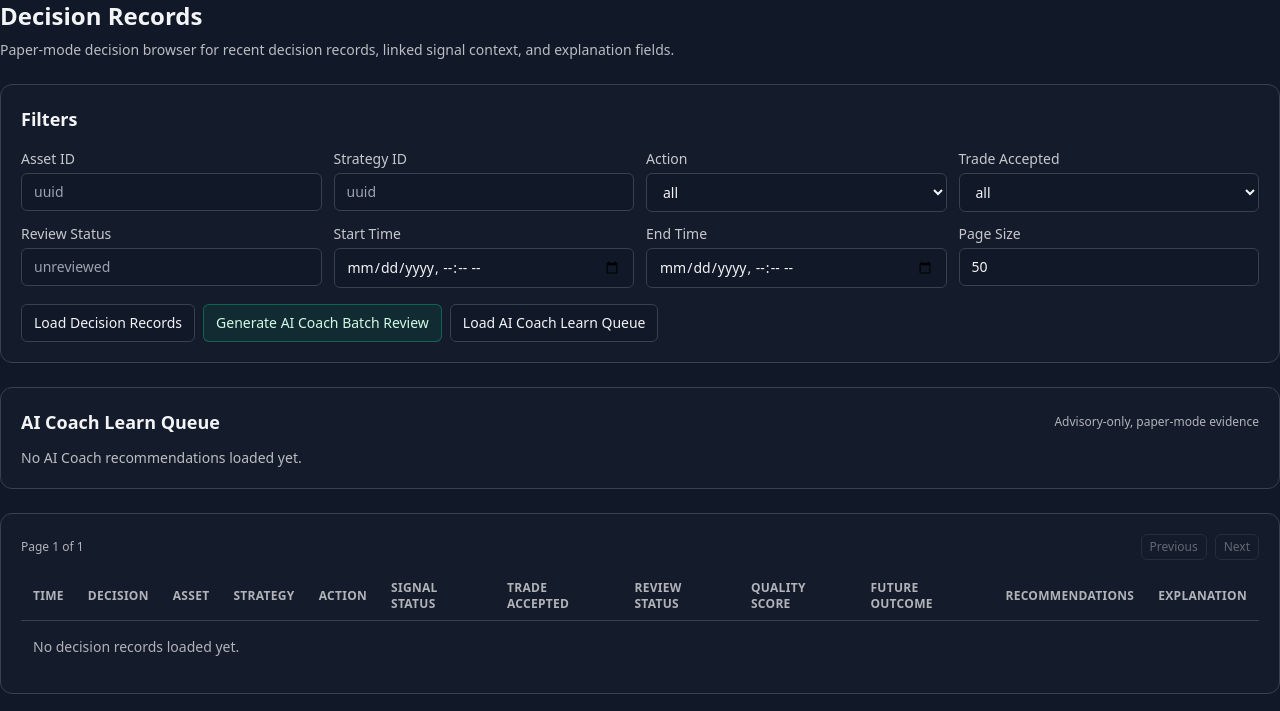
Test: DecisionRecordsPage › renders learn-layer enrichments from decision records endpoint
Click the button "Load Decision Records".
click(108, 323)  # box x1=21 y1=304 x2=195 y2=342
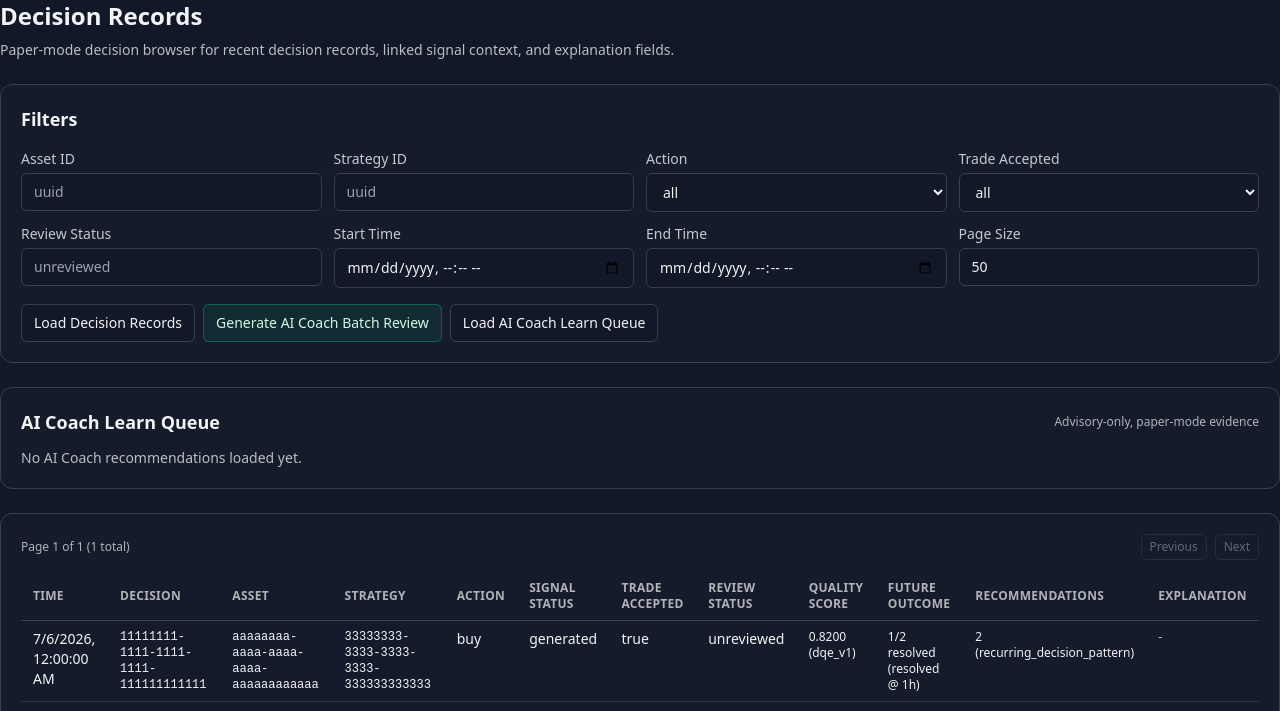
Expected: the text "0.8200 (dqe_v1)" is shown, x1=797 y1=620 x2=876 y2=702
Expected: the text "1/2 resolved (resolved @ 1h)" is shown, x1=876 y1=620 x2=963 y2=702
Expected: the text "2 (recurring_decision_pattern)" is shown, x1=963 y1=620 x2=1146 y2=702
Click the button "Load AI Coach Learn Queue".
click(554, 323)  # box x1=450 y1=304 x2=658 y2=342
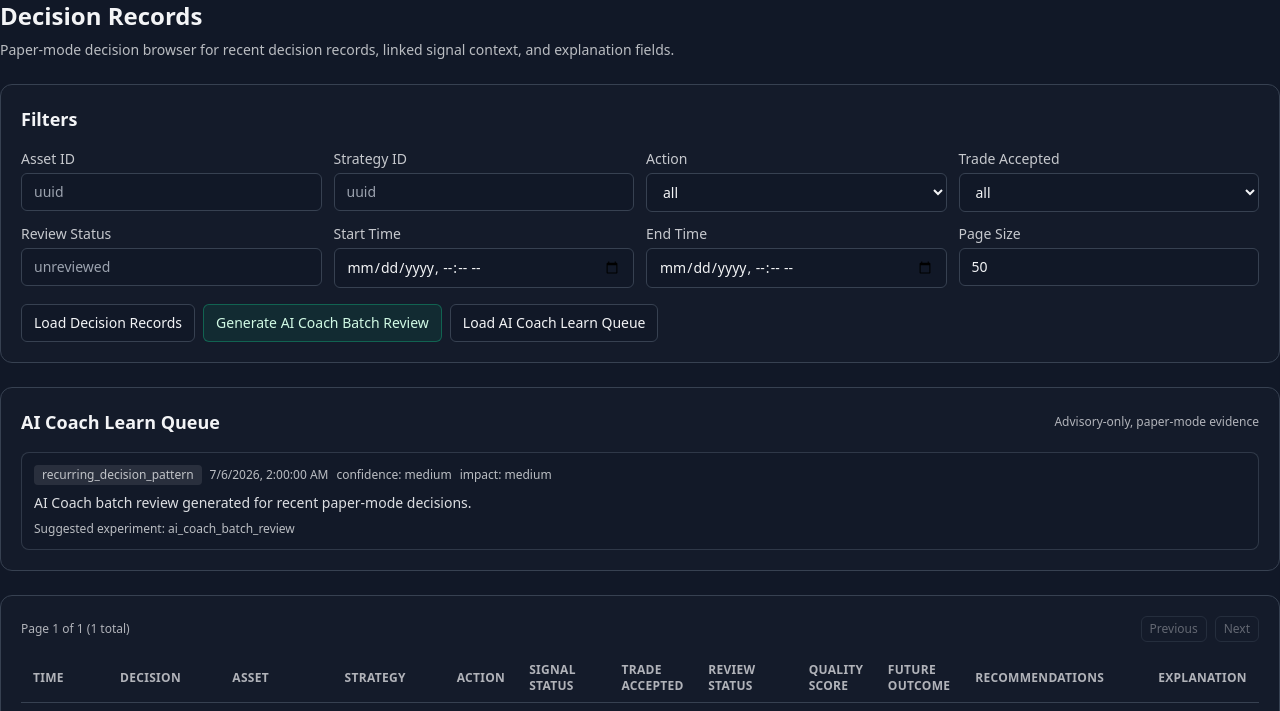
Expected: the text "AI Coach batch review generated for recent paper-mode decisions." is shown, x1=34 y1=493 x2=472 y2=512
Expected: the text "Suggested experiment: ai_coach_batch_review" is shown, x1=34 y1=520 x2=295 y2=537
